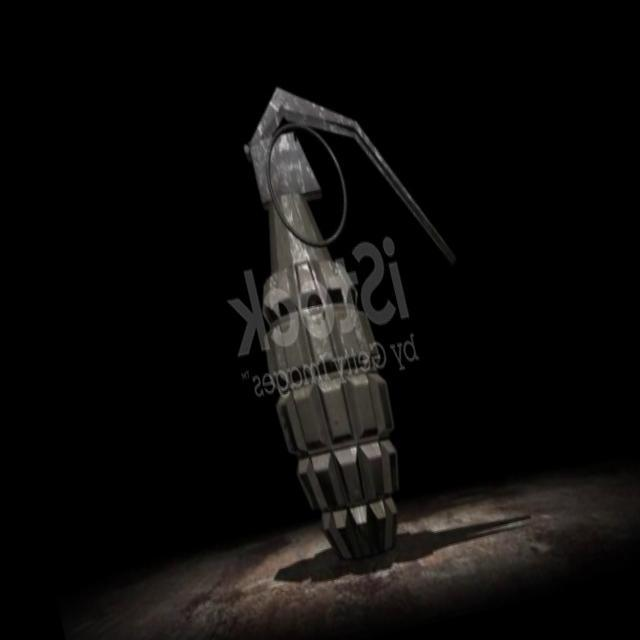grenade: (202, 61, 514, 578)
